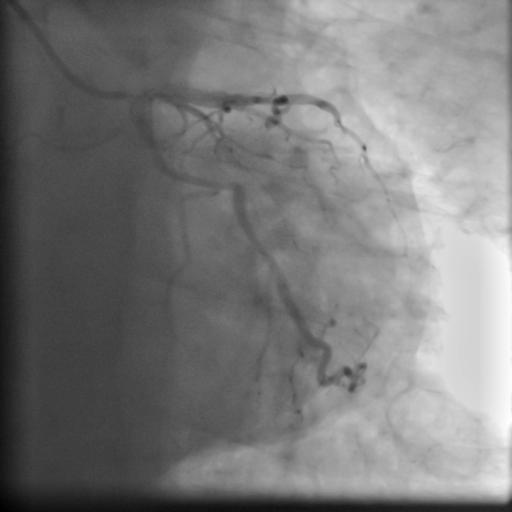Stenosis: (214, 178, 243, 194)
